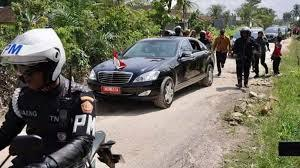Pothole: (222, 89, 274, 128)
